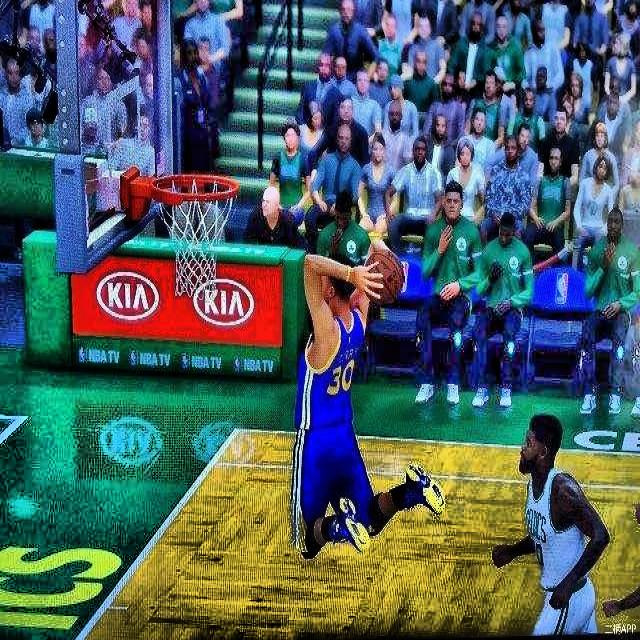rim: (151, 172, 239, 297)
